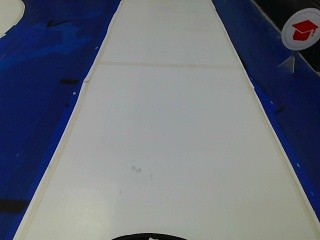school: (277, 10, 320, 54)
